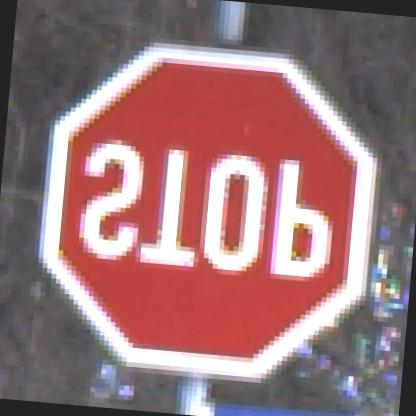stop: (8, 20, 394, 400)
